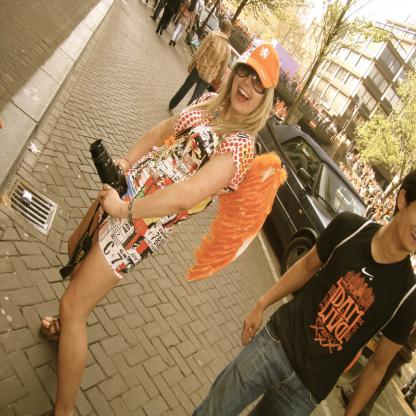Camera: (92, 141, 130, 199)
